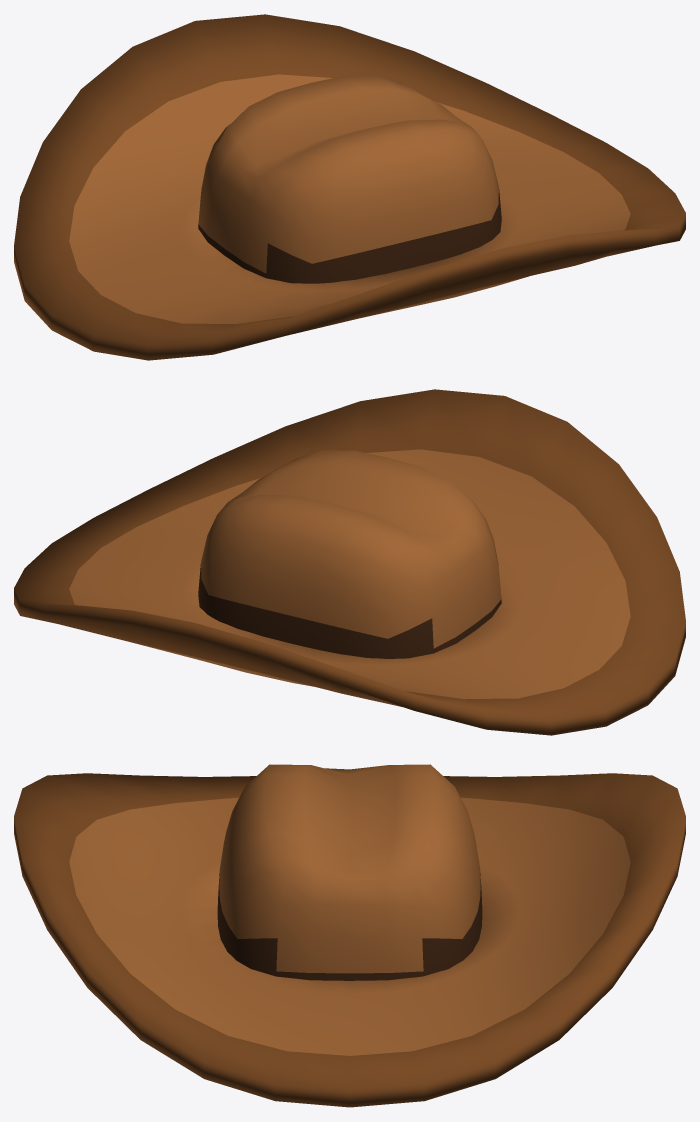
The model's file is cowboy.glb.
3 renders of one model, top to bottom at view 1: azimuth 30°, elevation 25°; view 2: azimuth 150°, elevation 25°; view 3: azimuth 270°, elevation 25°, orthographic. The views are drawn at different scales.
Parts seen in each view (by area): view 1: Brim, Crown; view 2: Brim, Crown; view 3: Brim, Crown.
Part boxes in pixels (x1=…): Brim: x1=14, y1=14, x2=685, y2=360; Crown: x1=198, y1=75, x2=501, y2=283; Brim: x1=14, y1=389, x2=685, y2=735; Crown: x1=198, y1=450, x2=501, y2=658; Brim: x1=14, y1=773, x2=685, y2=1107; Crown: x1=217, y1=764, x2=482, y2=980.
Size of the model in its own units: 0.76 by 0.178 by 0.684.
